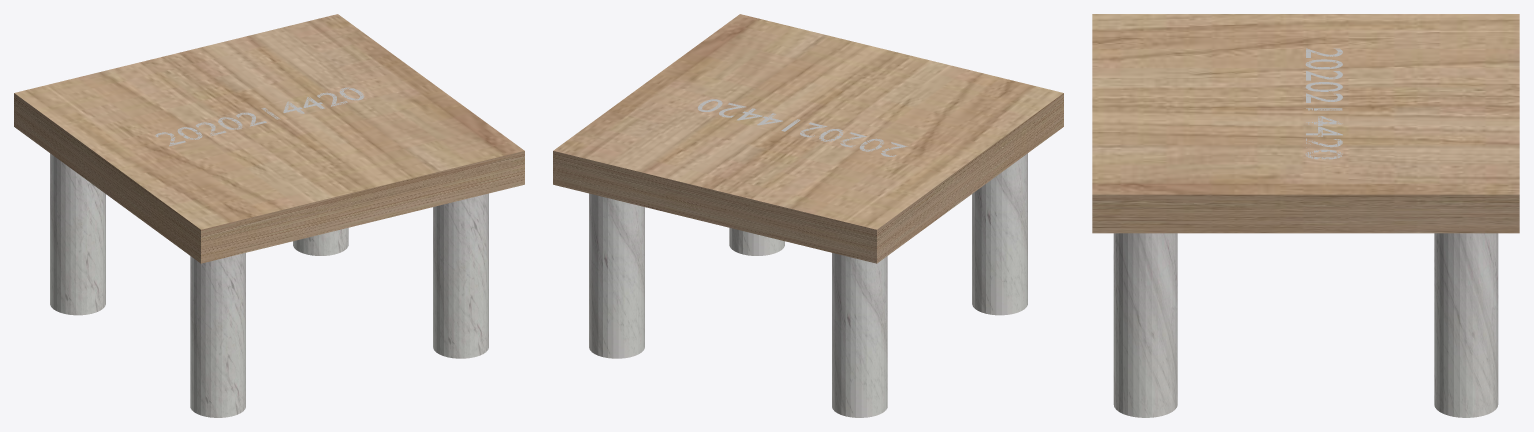
Rendered from Table.obj.
The picture shows the model from 3 angles, left to right: view 1: azimuth 30°, elevation 25°; view 2: azimuth 150°, elevation 25°; view 3: azimuth 270°, elevation 25°; orthographic projection. The views are drawn at different scales.
Visible parts, largest first — view 1: Cube, Cylinder, Cylinder.003, Cylinder.001, Text, Cylinder.002; view 2: Cube, Cylinder.001, Cylinder.002, Cylinder, Text, Cylinder.003; view 3: Cube, Cylinder.003, Cylinder.002, Text.
Boxes of the visible parts, x1=… form: Cube: x1=14, y1=14, x2=524, y2=263; Cylinder: x1=190, y1=253, x2=245, y2=417; Cylinder.003: x1=433, y1=193, x2=488, y2=358; Cylinder.001: x1=50, y1=153, x2=105, y2=315; Text: x1=155, y1=87, x2=364, y2=146; Cylinder.002: x1=293, y1=228, x2=348, y2=255; Cube: x1=553, y1=14, x2=1063, y2=263; Cylinder.001: x1=832, y1=253, x2=887, y2=417; Cylinder.002: x1=589, y1=193, x2=644, y2=358; Cylinder: x1=972, y1=153, x2=1027, y2=315; Text: x1=698, y1=99, x2=907, y2=156; Cylinder.003: x1=729, y1=228, x2=784, y2=255; Cube: x1=1092, y1=14, x2=1519, y2=233; Cylinder.003: x1=1113, y1=233, x2=1177, y2=417; Cylinder.002: x1=1434, y1=233, x2=1498, y2=417; Text: x1=1305, y1=48, x2=1342, y2=159.
Bounding box in the file's own units: 4 × 2.4 × 4.
